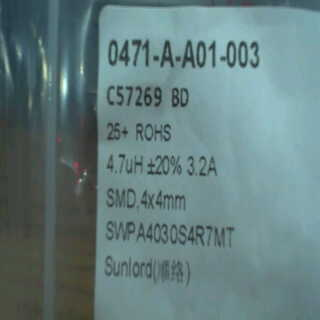4.7uH: (104, 153, 146, 178)
